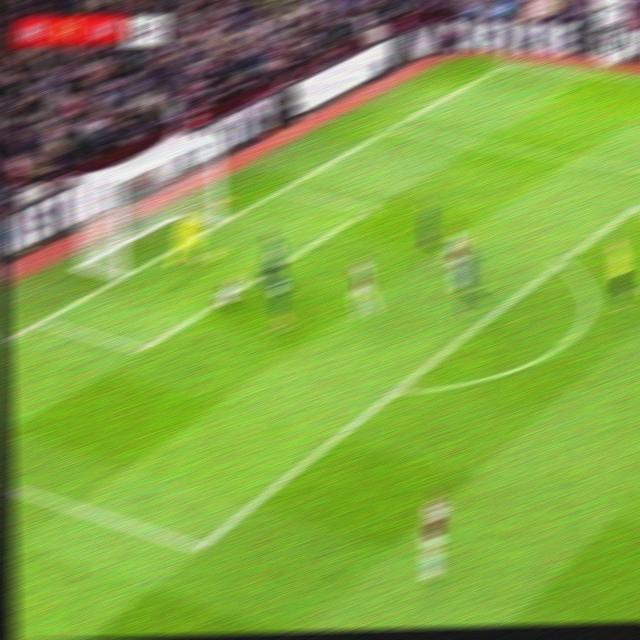bigarea_bottom_inner: (183, 531, 216, 567)
bigarea_top_outter: (380, 120, 400, 135)
bottom_arc_area_intersection: (384, 380, 407, 402)
corner: (496, 58, 518, 67)
smallarea_bottom_inner: (130, 335, 155, 361)
smallarea_bottom_outter: (28, 310, 52, 333)
smallarea_top_inner: (358, 200, 378, 216)
smallarea_top_outter: (270, 182, 291, 199)
top_arc_area_intersection: (551, 253, 571, 271)
